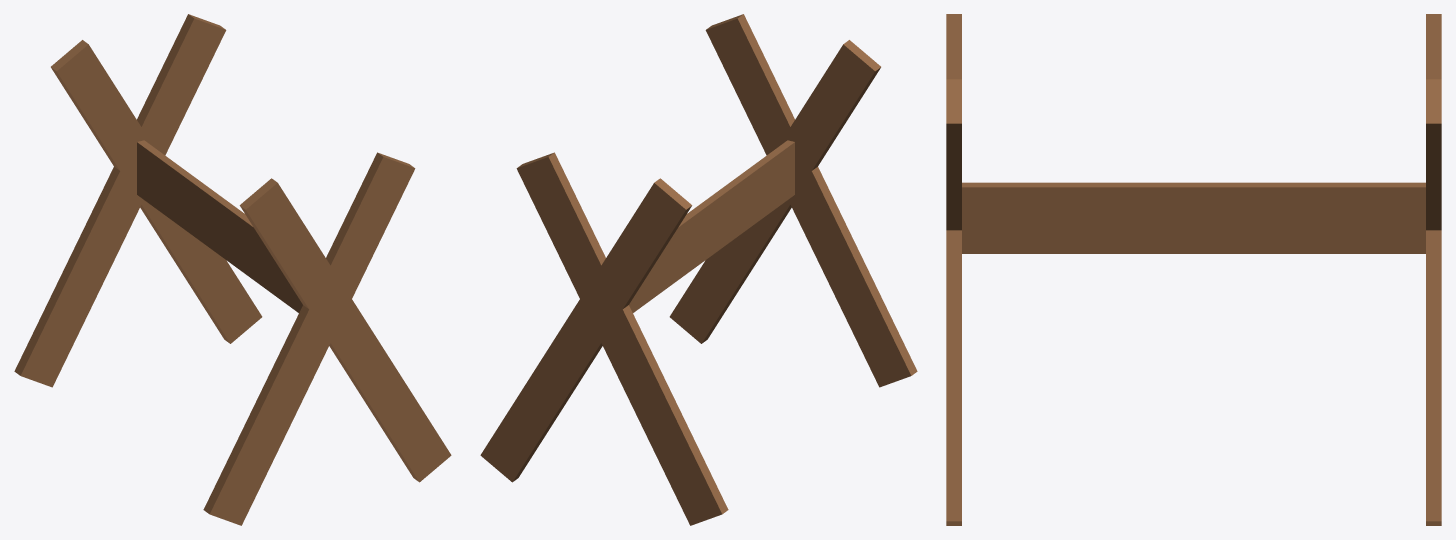
File: allvany.fbx
3 renders of one model, left to right at view 1: azimuth 30°, elevation 25°; view 2: azimuth 150°, elevation 25°; view 3: azimuth 270°, elevation 25°, orthographic. The views are drawn at different scales.
Visible parts, largest first — view 1: Cube.004; view 2: Cube.004; view 3: Cube.004.
Part boxes in pixels (x1,y1,x2,y2): Cube.004: [14, 14, 451, 525]; Cube.004: [480, 14, 917, 525]; Cube.004: [946, 14, 1441, 525].
Size of the model in its own units: 1344 by 962 by 1270.
